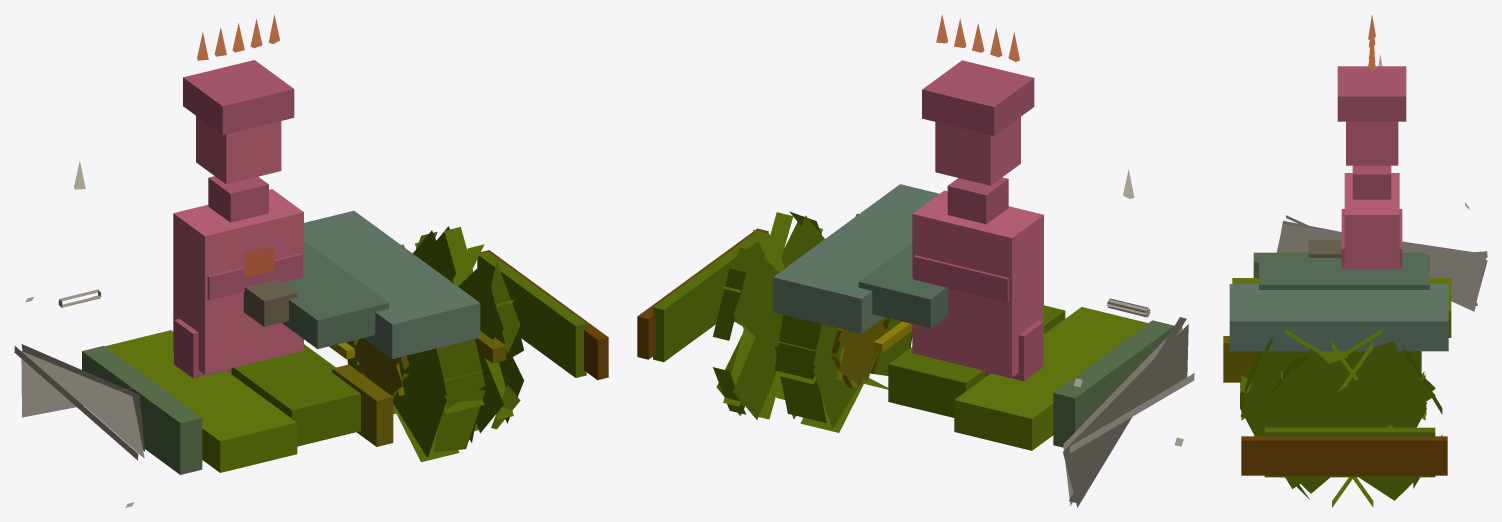
File: takeda-08.glb
3 views of the same model, side by side, from view 1: azimuth 30°, elevation 25°; view 2: azimuth 150°, elevation 25°; view 3: azimuth 270°, elevation 25° (orthographic). The views are drawn at different scales.
Visible parts, largest first — view 1: samurai; view 2: samurai; view 3: samurai.
Boxes of the visible parts, box(x1,y1,x2,y2) form: samurai: box(14, 14, 608, 507); samurai: box(637, 14, 1194, 507); samurai: box(1223, 15, 1487, 507).
Bounding box in the file's own units: 1.7 × 1.54 × 0.9598.
